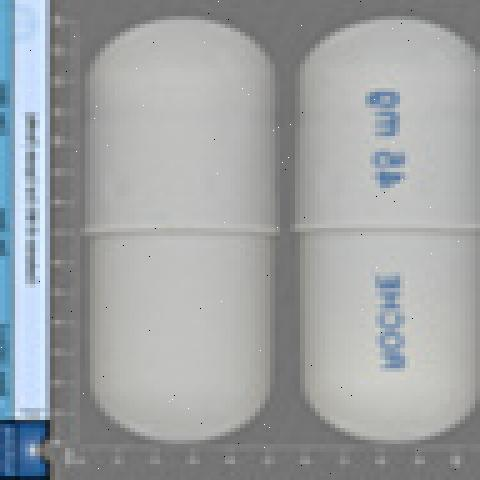Pill: (59, 6, 287, 464), (299, 10, 480, 460)
